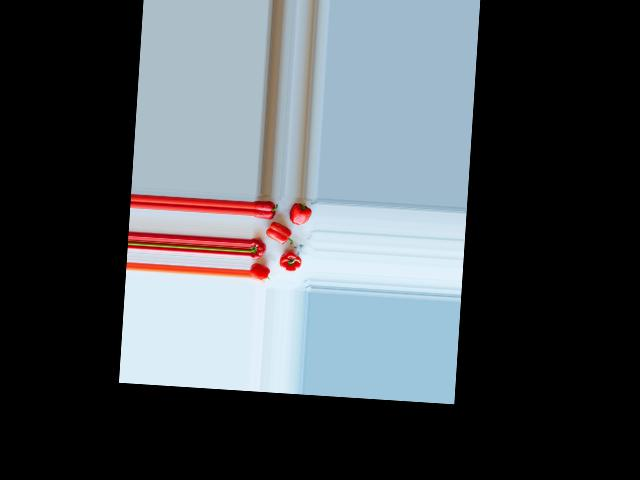bell_pepper: (250, 237, 267, 259)
